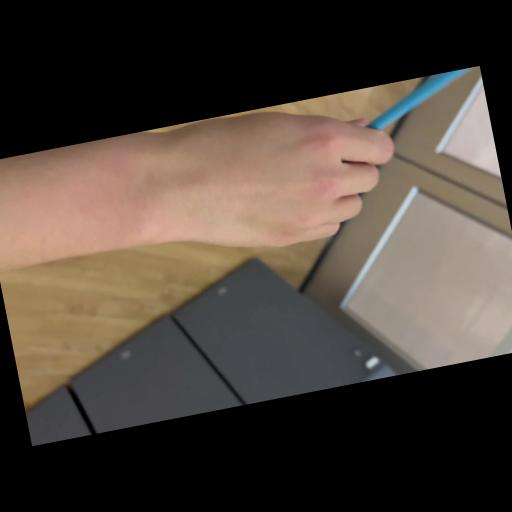straw: (296, 66, 496, 186)
